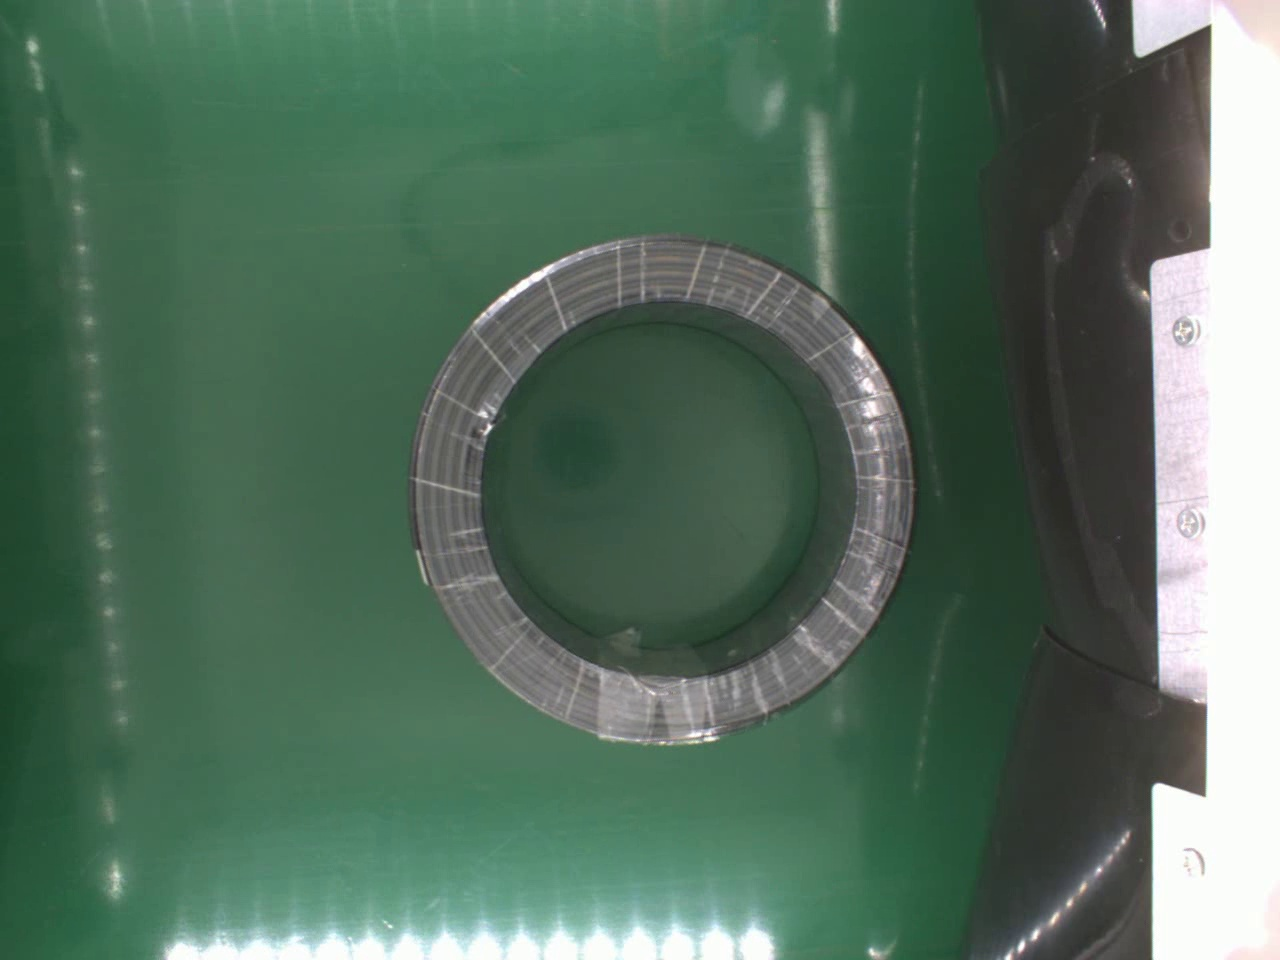black: (402, 235, 931, 764)
